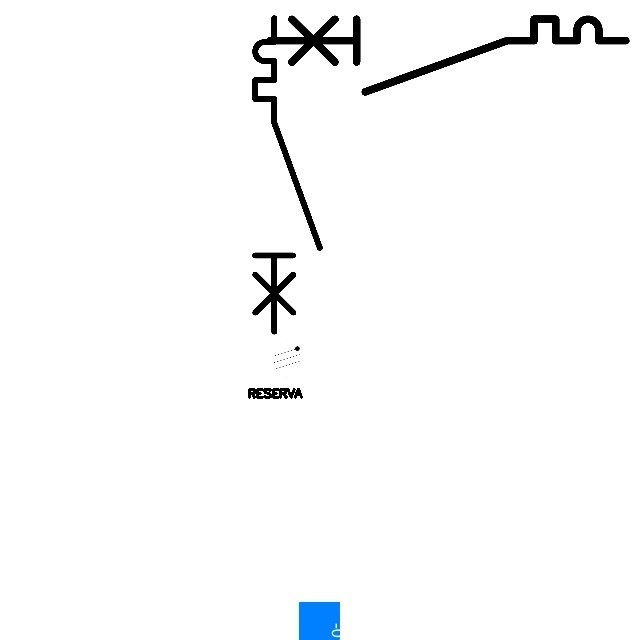interruptor_termomagnetico: (261, 10, 635, 101), (247, 10, 327, 340)
